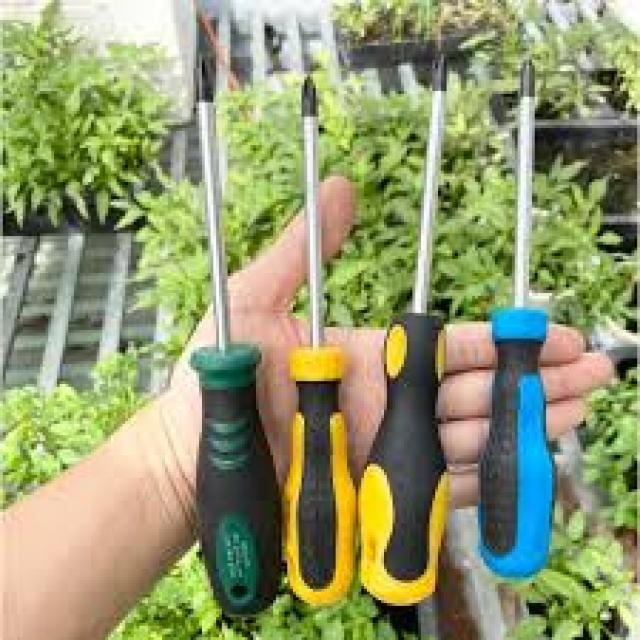screwdriver: (185, 47, 282, 619), (358, 49, 452, 612), (474, 52, 560, 582), (282, 74, 358, 620)
